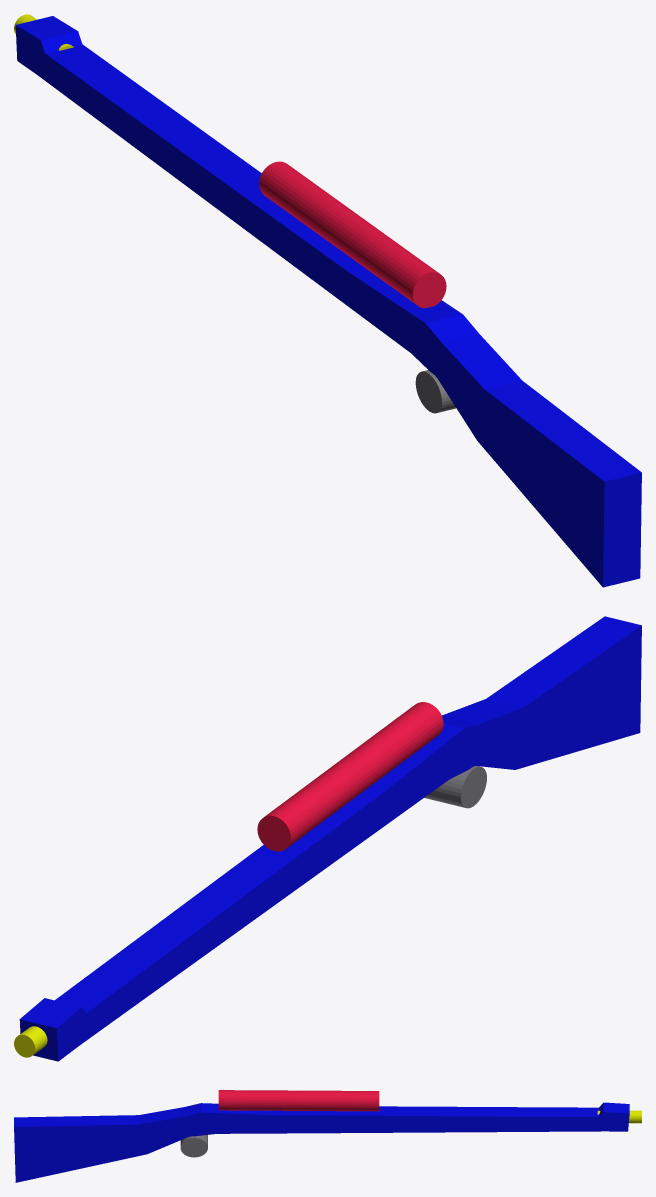
File: Rifle.gltf
3 views of the same model, one above another, from view 1: azimuth 30°, elevation 25°; view 2: azimuth 150°, elevation 25°; view 3: azimuth 270°, elevation 25° (orthographic). The views are drawn at different scales.
Parts seen in each view (by area): view 1: Cube, Cylinder, Cube.002; view 2: Cube, Cylinder, Cube.002, Cylinder.001; view 3: Cube, Cylinder, Cube.002, Cylinder.001.
Part boxes in pixels (x1,y1,x2,y2): Cube: [15, 16, 641, 587]; Cylinder: [259, 161, 446, 308]; Cube.002: [415, 370, 455, 413]; Cube: [19, 616, 641, 1061]; Cylinder: [257, 702, 443, 851]; Cube.002: [424, 766, 486, 808]; Cylinder.001: [14, 1026, 47, 1057]; Cube: [14, 1102, 629, 1182]; Cylinder: [218, 1090, 379, 1111]; Cube.002: [180, 1135, 207, 1157]; Cylinder.001: [597, 1110, 641, 1123].
Bounding box in the file's own units: 0.3034 × 1.01 × 6.55.
